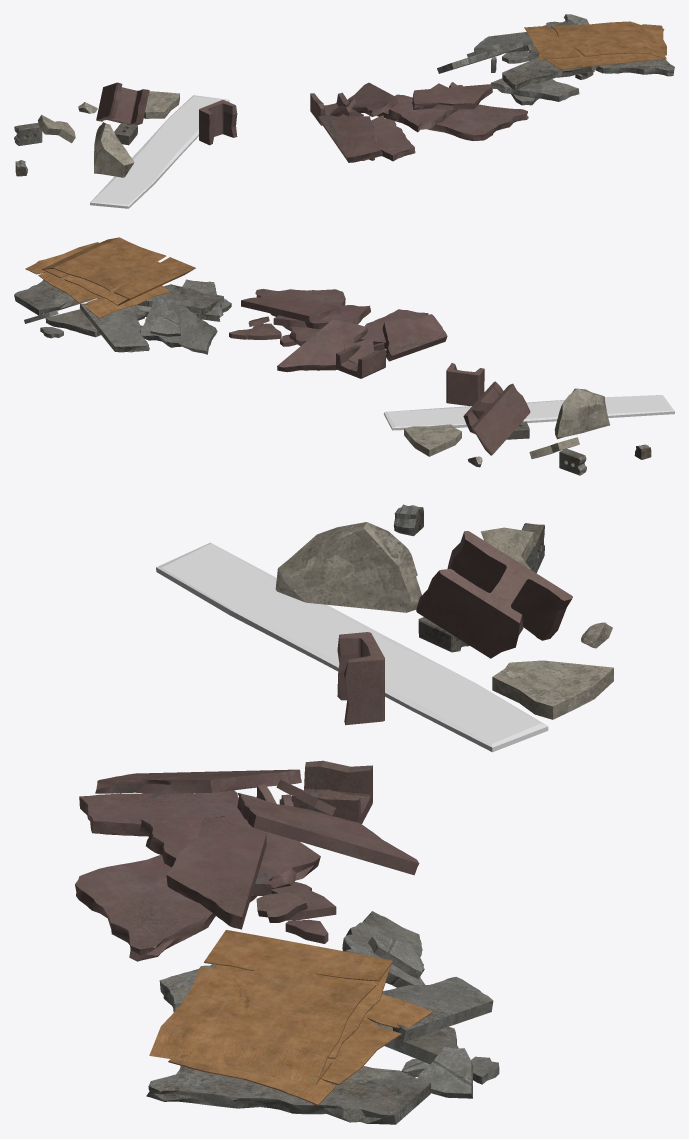
The model's file is RubbleB.fbx.
The picture shows the model from 3 angles, top to bottom: view 1: azimuth 30°, elevation 25°; view 2: azimuth 150°, elevation 25°; view 3: azimuth 270°, elevation 25°; orthographic projection. The views are drawn at different scales.
Visible parts, largest first — view 1: RubbleB; view 2: RubbleB; view 3: RubbleB.
Part boxes in pixels (x1,y1,x2,y2): RubbleB: (14,14,674,208); RubbleB: (14,237,674,475); RubbleB: (75,504,613,1124).
Size of the model in its own units: 3.34 by 0.2898 by 1.25.
